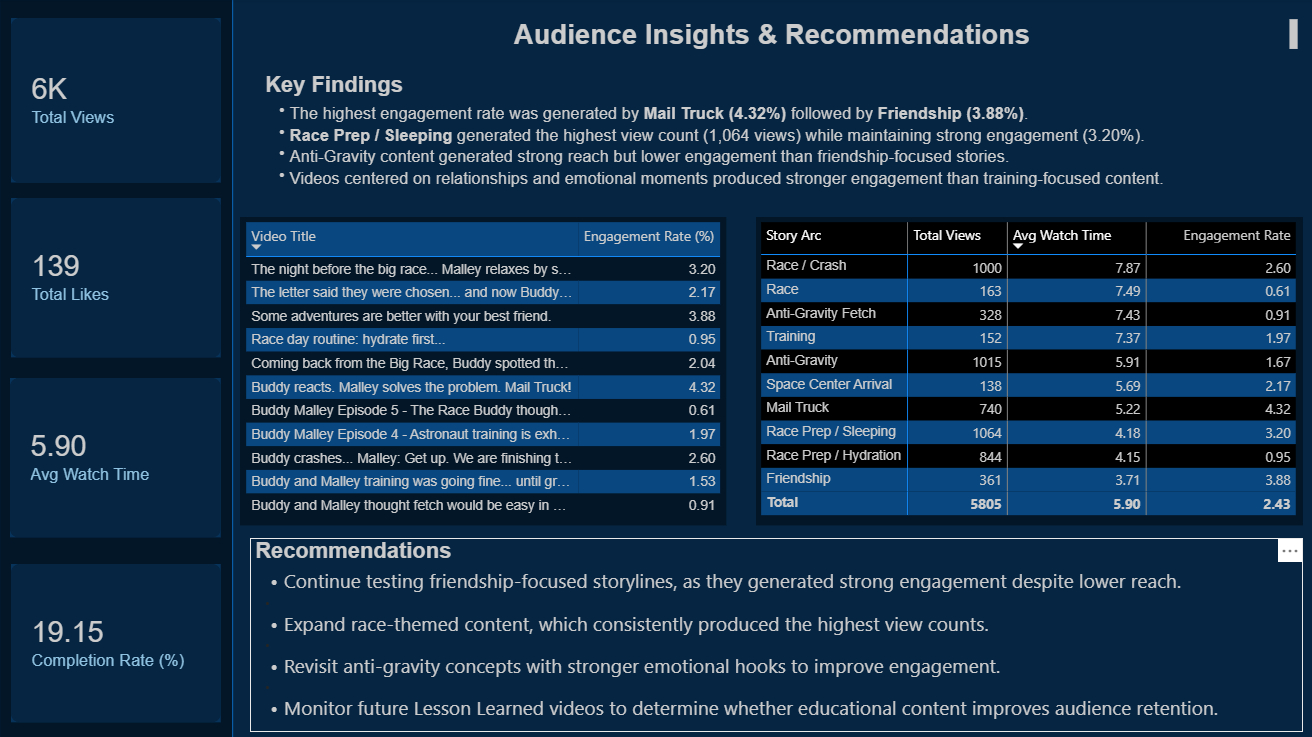

The dashboard page shown, as its layout file describes it:
{"tool":"powerbi","page":{"name":"Page 2","canvas":[1280,720],"ordinal":1},"visuals":[{"type":"shape","box":[216,0,1064,720],"z":0},{"type":"shape","box":[0,0,227.8,720],"z":1000},{"type":"cardVisual","fields":{"Data":["Videos.Total Views"]},"box":[12,18,204,160],"z":2000},{"type":"cardVisual","fields":{"Data":["Videos.Total Likes"]},"box":[12,194,204,155],"z":3000},{"type":"cardVisual","fields":{"Data":["Videos.Avg Watch Time"]},"box":[11,369,205,155],"z":4000},{"type":"cardVisual","fields":{"Data":["Videos.Avg Completion Rate"]},"box":[12,550,204,154],"z":5000},{"type":"tableEx","title":"Total views by Video","fields":{"Values":["Videos.video_title","Videos.Engagement Rate"]},"box":[234,212,473,300],"z":6000},{"type":"pivotTable","fields":{"Values":["Videos.Total Views","Videos.Avg Watch Time","Videos.Engagement Rate"],"Rows":["Videos.story_arc"]},"box":[736,212,532,300],"z":7000},{"type":"textbox","title":"Key Findings","box":[244,15,1024,40],"z":8000},{"type":"textbox","title":"Recommendations","box":[244,524,1024,189],"z":9000},{"type":"textbox","title":"Key Findings","box":[254,71,1024,133],"z":9001}]}

Visuals, with their boxes in screenshot pixels (x1, y1, x2, y2), scaled from the page's 1280x720 canvas onto the 1312x737 screenshot:
shape: 221/0/1311/736
shape: 0/0/233/736
cardVisual - Videos.Total Views: 12/18/221/182
cardVisual - Videos.Total Likes: 12/199/221/357
cardVisual - Videos.Avg Watch Time: 11/378/221/536
cardVisual - Videos.Avg Completion Rate: 12/563/221/721
"Total views by Video" tableEx: 240/217/725/524
pivotTable - Videos.Total Views x Videos.Avg Watch Time: 754/217/1300/524
"Key Findings" textbox: 250/15/1300/56
"Recommendations" textbox: 250/536/1300/730
"Key Findings" textbox: 260/73/1310/209
